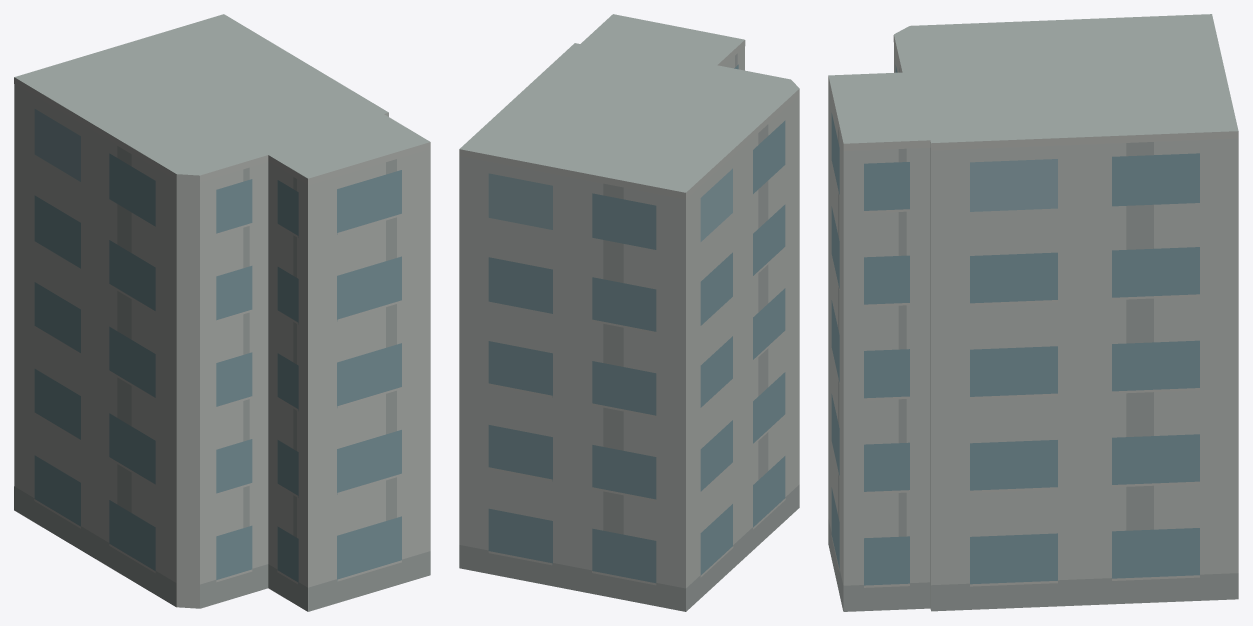
File: survey-upis-32699921.glb
3 renders of one model, left to right at view 1: azimuth 30°, elevation 25°; view 2: azimuth 150°, elevation 25°; view 3: azimuth 270°, elevation 25°, orthographic. The views are drawn at different scales.
Visible parts, largest first — view 1: survey-upis-32699921.tmp; view 2: survey-upis-32699921.tmp; view 3: survey-upis-32699921.tmp.
Part boxes in pixels (x1,y1,x2,y2): survey-upis-32699921.tmp: [14, 14, 430, 611]; survey-upis-32699921.tmp: [459, 14, 799, 611]; survey-upis-32699921.tmp: [828, 14, 1238, 611].
Bounding box in the file's own units: 9.07 × 15.25 × 12.12.
